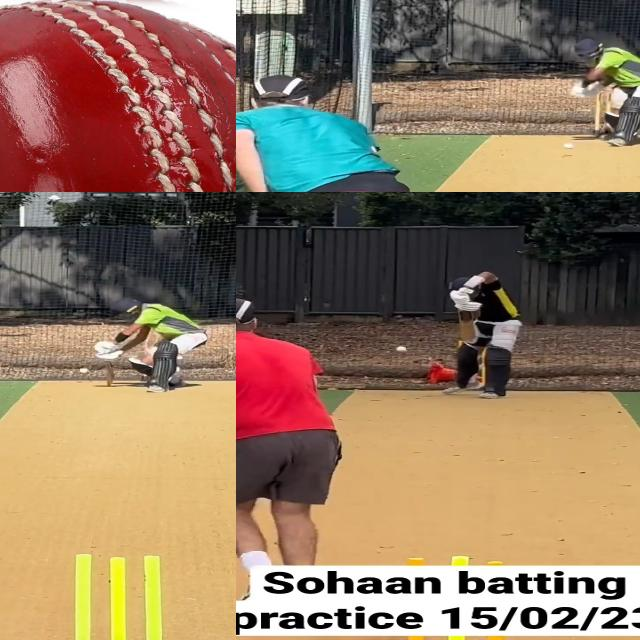Cricket ball: (0, 0, 236, 192), (561, 142, 575, 151), (77, 367, 91, 374), (397, 345, 407, 353)
Stumps: (56, 549, 185, 640)
